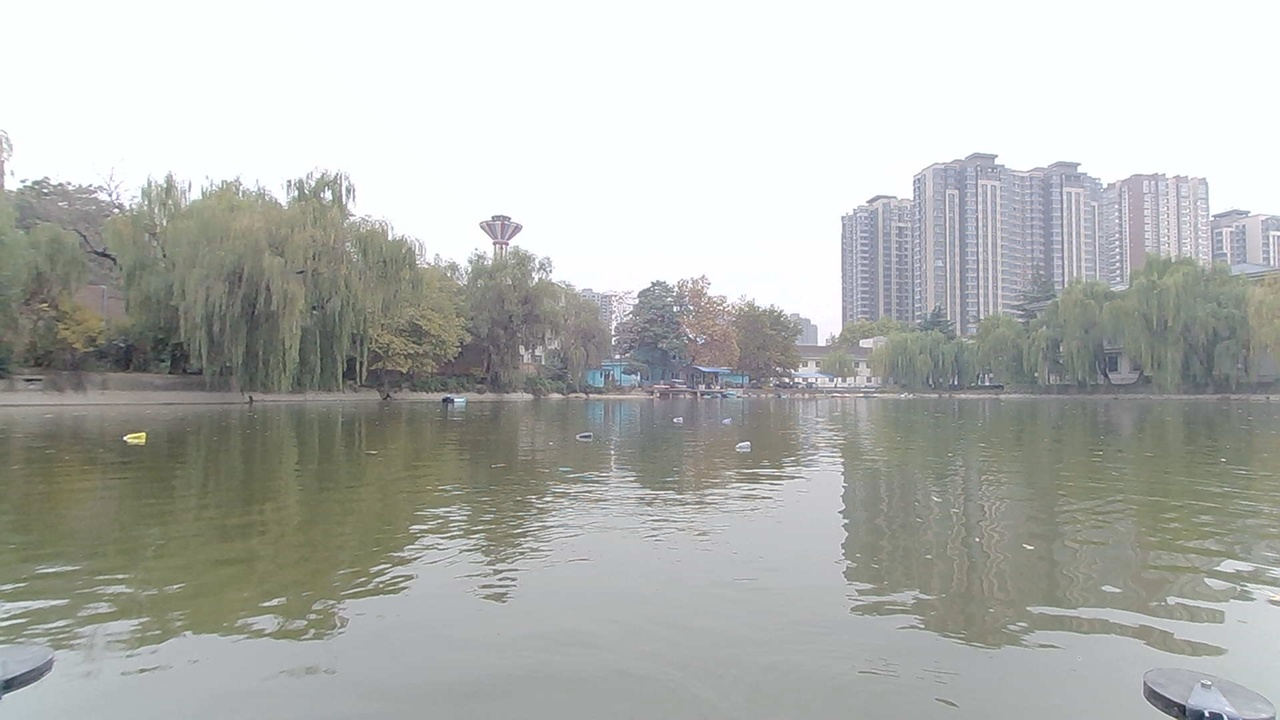bottle: (114, 421, 162, 453), (572, 423, 602, 445), (733, 436, 763, 457), (709, 413, 742, 430), (670, 408, 692, 427)
